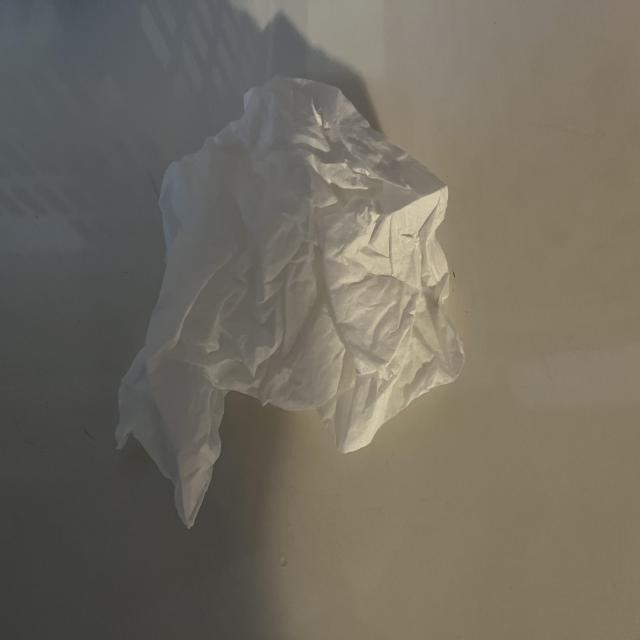Paper: (114, 88, 466, 560)
